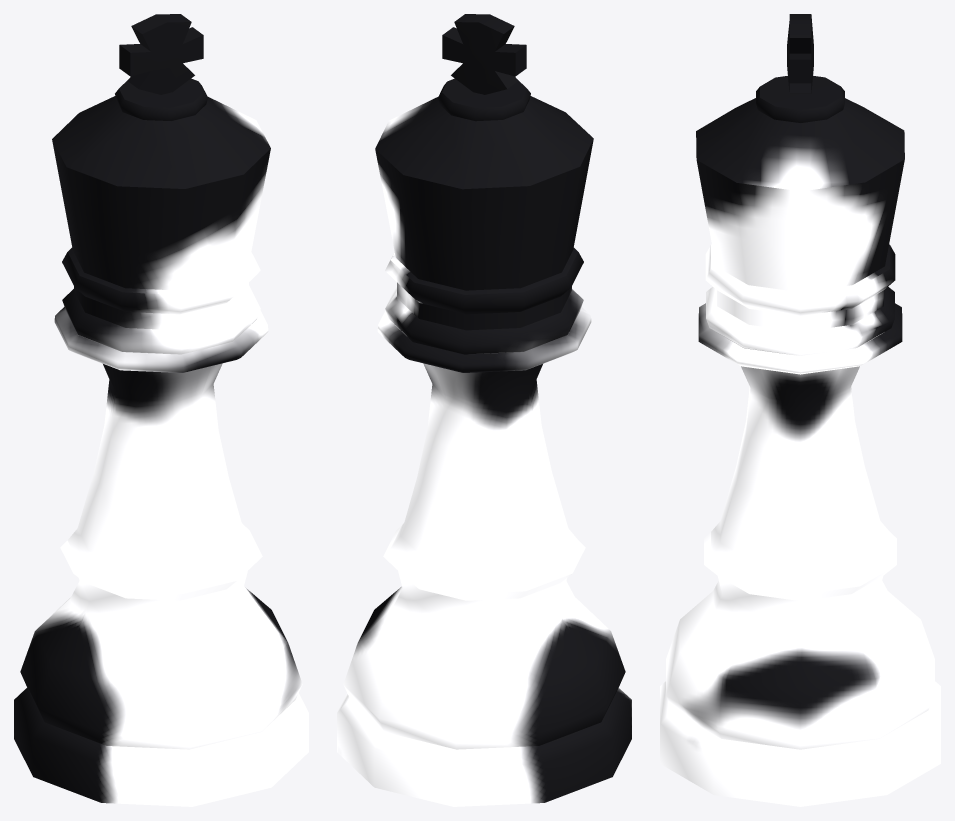
Rendered from item-5-7.glb.
3 views of the same model, side by side, from view 1: azimuth 30°, elevation 25°; view 2: azimuth 150°, elevation 25°; view 3: azimuth 270°, elevation 25° (orthographic).
Parts seen in each view (by area): view 1: BlackKing; view 2: BlackKing; view 3: BlackKing.
Boxes of the visible parts, <box> form: BlackKing: <box>14,14,308,806</box>; BlackKing: <box>337,14,631,806</box>; BlackKing: <box>660,14,940,806</box>.
Size of the model in its own units: 0.0886 by 0.2399 by 0.0843.
1 material, 1 textured.
